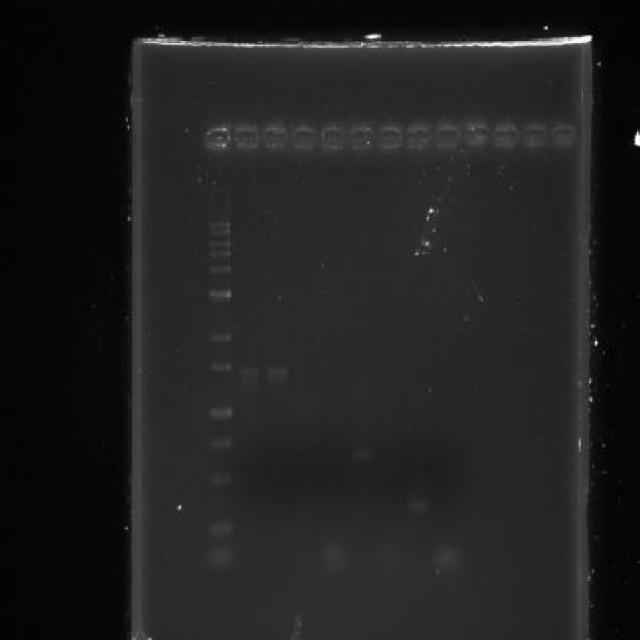B: (314, 536, 349, 576), (428, 542, 467, 572), (404, 494, 434, 520), (264, 362, 288, 384), (348, 449, 376, 466), (236, 365, 262, 383)
L: (200, 113, 582, 162)
M: (202, 184, 240, 578)
P: (206, 546, 237, 572), (207, 520, 236, 538), (207, 470, 233, 488), (208, 404, 234, 422), (208, 434, 234, 450), (207, 286, 233, 302), (208, 330, 234, 344), (206, 262, 232, 276), (206, 238, 232, 250), (206, 249, 232, 260), (210, 360, 232, 372), (206, 228, 231, 238), (206, 220, 231, 228)
Pc: (492, 120, 520, 152), (204, 125, 233, 154), (233, 122, 261, 152), (262, 122, 290, 152), (376, 123, 404, 152), (406, 121, 432, 152), (319, 124, 347, 152), (550, 122, 578, 150), (291, 124, 317, 154), (348, 124, 374, 153), (464, 120, 490, 149), (435, 122, 460, 152), (522, 122, 548, 150)
